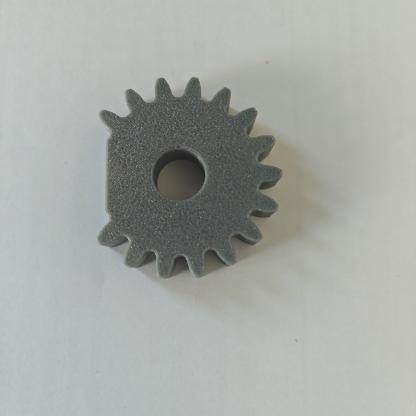defect: (54, 102, 144, 257)
gear: (48, 44, 314, 299)
